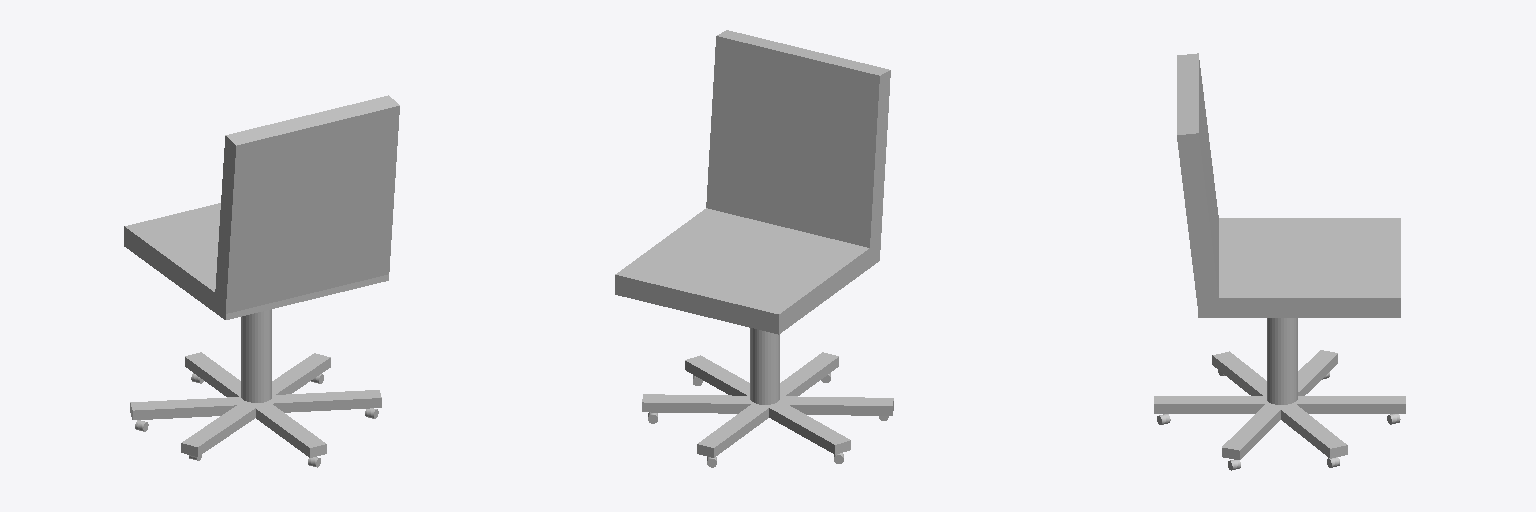
File: chair.obj
3 renders of one model, left to right at view 1: azimuth 30°, elevation 25°; view 2: azimuth 150°, elevation 25°; view 3: azimuth 270°, elevation 25°, orthographic.
Visible parts, largest first — view 1: Cube_Cube.004; view 2: Cube_Cube.004; view 3: Cube_Cube.004.
Part boxes in pixels (x1,y1,x2,y2): Cube_Cube.004: (124,95,399,467); Cube_Cube.004: (615,30,893,467); Cube_Cube.004: (1154,53,1405,470).
Size of the model in its own units: 4.3 by 6.67 by 4.52.